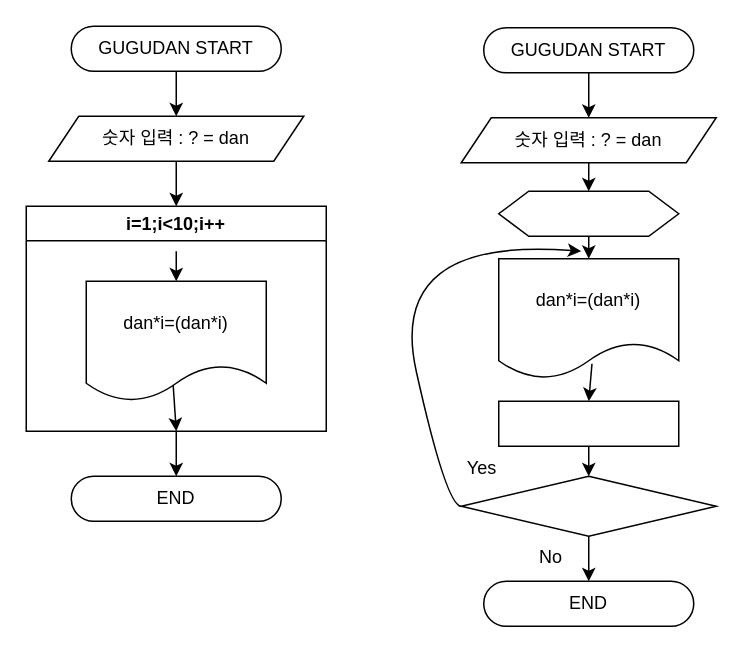
Some shapes in this 743 by 653 pixel diagram are drawn without their labels. Here are the shapes that lost their labels. From the top down, the box of each, then its label:
(497, 190, 679, 236): int i=1
(497, 400, 679, 446): i=i+1
(460, 475, 716, 536): i<10
